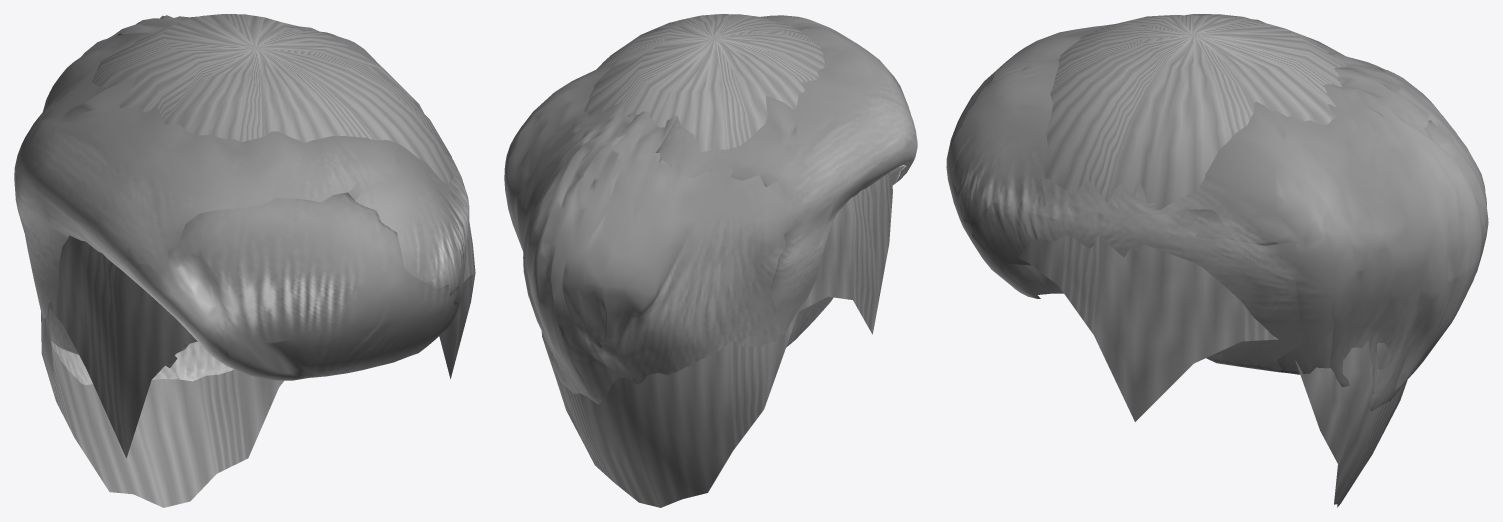
The model's file is pompadour.glb.
3 renders of one model, left to right at view 1: azimuth 30°, elevation 25°; view 2: azimuth 150°, elevation 25°; view 3: azimuth 270°, elevation 25°, orthographic. The views are drawn at different scales.
Visible parts, largest first — view 1: pompadour; view 2: pompadour; view 3: pompadour.
Boxes of the visible parts, x1,y1,x2,y2 form: pompadour: (14,14,475,507); pompadour: (504,14,917,507); pompadour: (946,14,1488,507).
Size of the model in its own units: 0.1824 by 0.2419 by 0.2544.
Materials: 1 (1 with a texture image).
